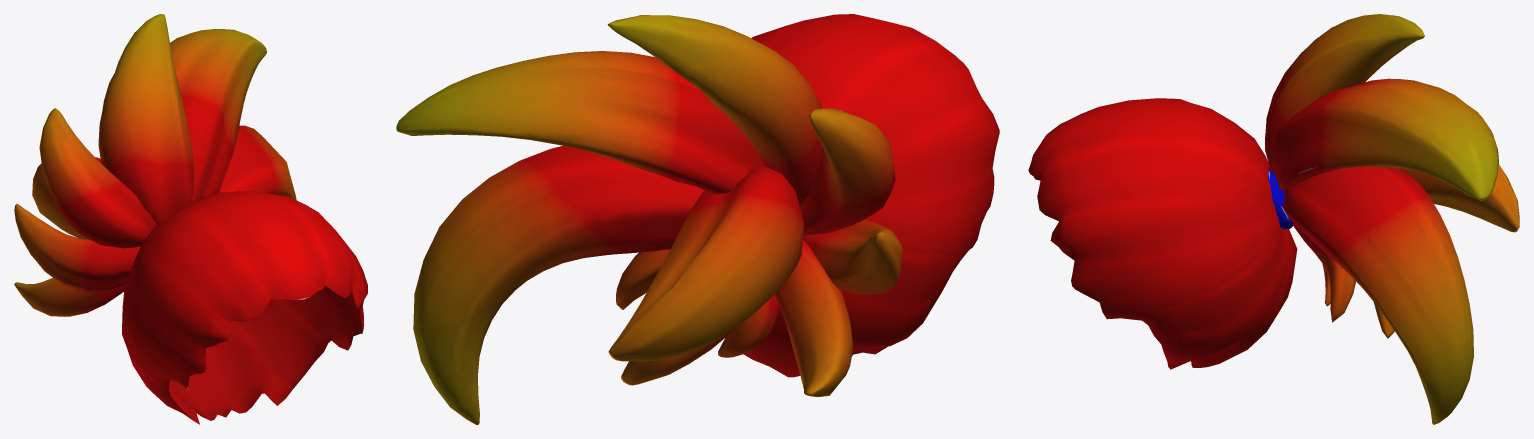
File: HairBack_WildTail.obj
3 renders of one model, left to right at view 1: azimuth 30°, elevation 25°; view 2: azimuth 150°, elevation 25°; view 3: azimuth 270°, elevation 25°, orthographic. The views are drawn at different scales.
Visible parts, largest first — view 1: HairBack_WildTail_0; view 2: HairBack_WildTail_0; view 3: HairBack_WildTail_0.
Boxes of the visible parts, x1,y1,x2,y2 form: HairBack_WildTail_0: (14, 14, 367, 424); HairBack_WildTail_0: (396, 14, 999, 424); HairBack_WildTail_0: (1028, 14, 1519, 424).
Bounding box in the file's own units: 0.3087 × 0.3124 × 0.3941.
1 material, 1 textured.
